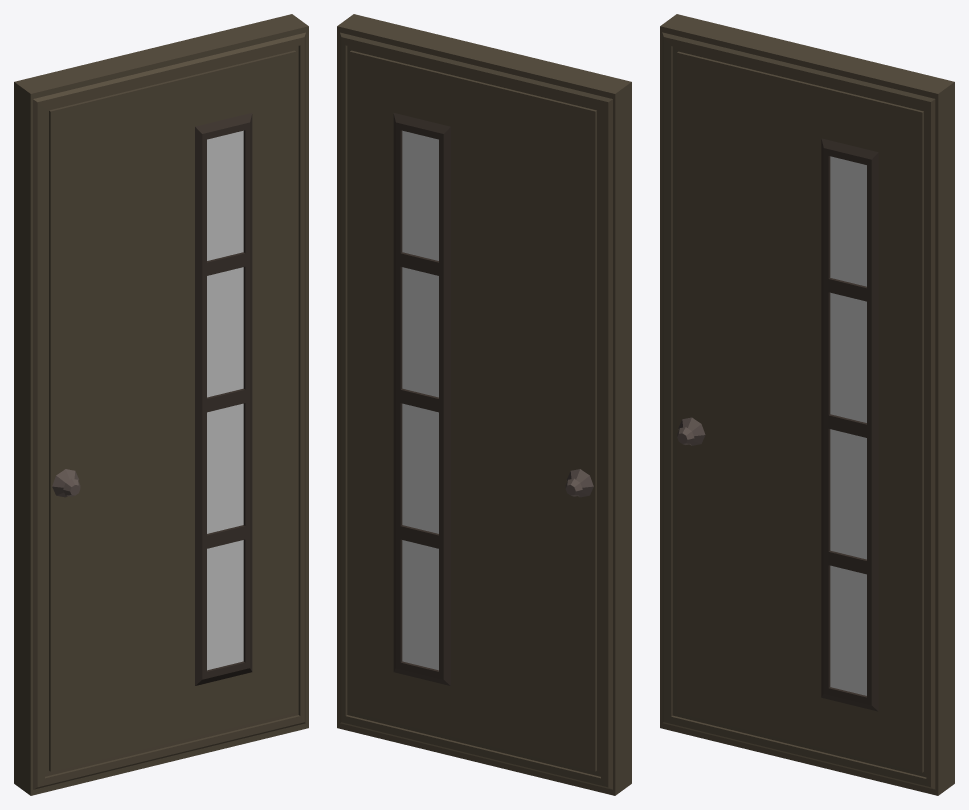
The picture shows the model from 3 angles, left to right: view 1: azimuth 30°, elevation 25°; view 2: azimuth 150°, elevation 25°; view 3: azimuth 330°, elevation 25°; orthographic projection.
Parts seen in each view (by area): view 1: Door_6_Cube.055; view 2: Door_6_Cube.055; view 3: Door_6_Cube.055.
Part boxes in pixels (x1,y1,x2,y2): Door_6_Cube.055: (14,14,308,795); Door_6_Cube.055: (337,14,631,795); Door_6_Cube.055: (660,14,954,795).
Bounding box in the file's own units: 1.74 × 4.2 × 0.4211.
